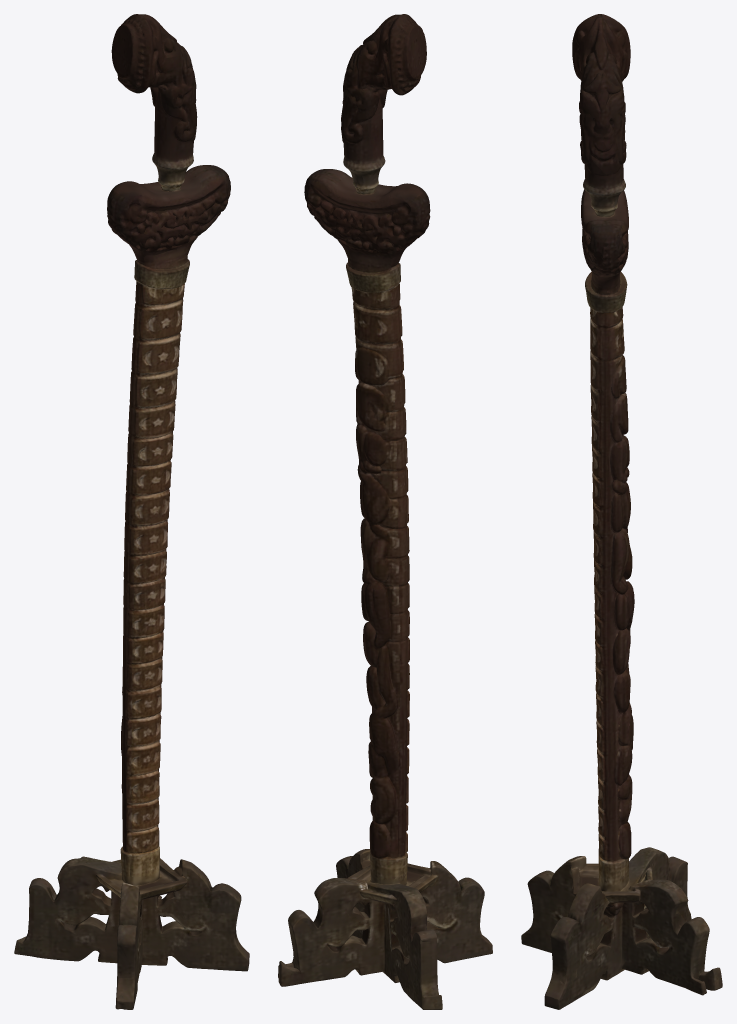
Rendered from ReplikaPedangBawar.glb.
The picture shows the model from 3 angles, left to right: view 1: azimuth 30°, elevation 25°; view 2: azimuth 150°, elevation 25°; view 3: azimuth 270°, elevation 25°; orthographic projection.
Bounding box in the file's own units: 0.3662 × 1.9 × 0.3641.
Materials: 1 (1 with a texture image).
